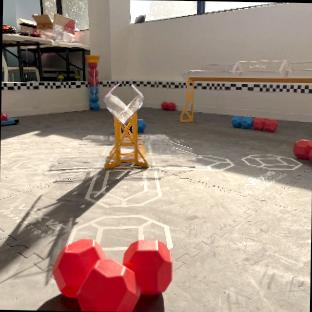Goal: (180, 60, 312, 121)
Med_goal: (104, 83, 147, 168)
V5_BLUE: (231, 116, 252, 128), (137, 118, 145, 131)
V5_RED: (52, 238, 171, 311), (86, 55, 98, 108), (293, 139, 312, 160), (252, 117, 276, 131), (161, 102, 174, 109), (1, 113, 7, 120)
